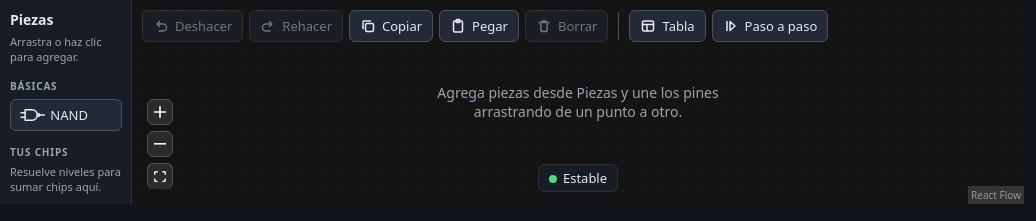
it: Editor › guides an empty level until the first piece is added
The width and height of the screenshot is (1036, 221).
Expected: the text "Agrega piezas desde Piezas" is shown, [437, 83, 719, 121]
Expected: the message reads "Estable", [563, 169, 607, 187]
What coordinates should you click on to do the following:
click the button "NAND"
I would click on:
 (66, 115)
Its box is [10, 99, 122, 131].
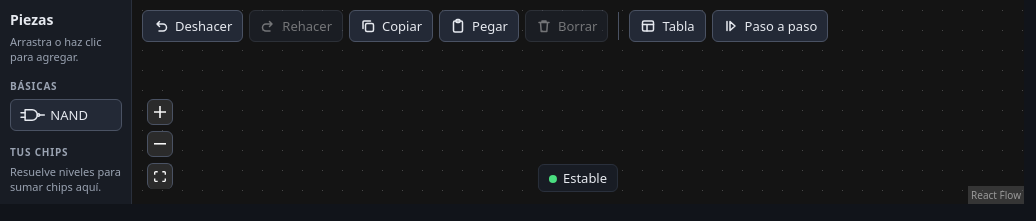
Expected: the text "Agrega piezas desde Piezas" is gone
